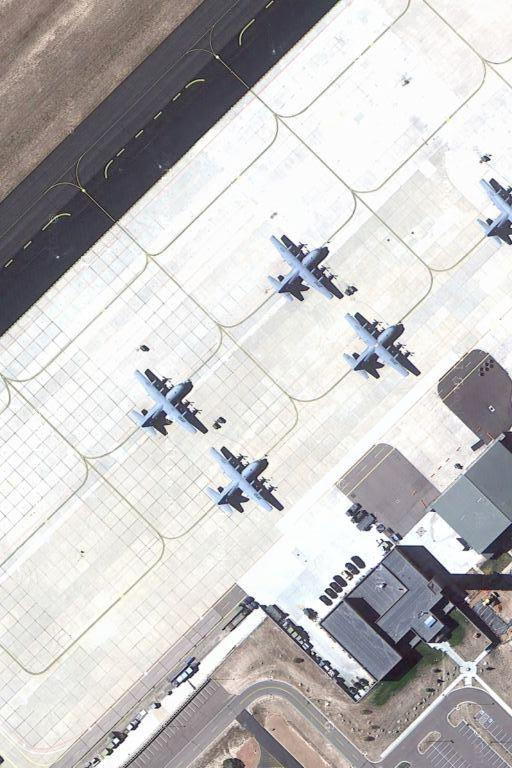C-130: (265, 230, 340, 307), (204, 445, 276, 522), (343, 310, 415, 383), (132, 365, 202, 440)
